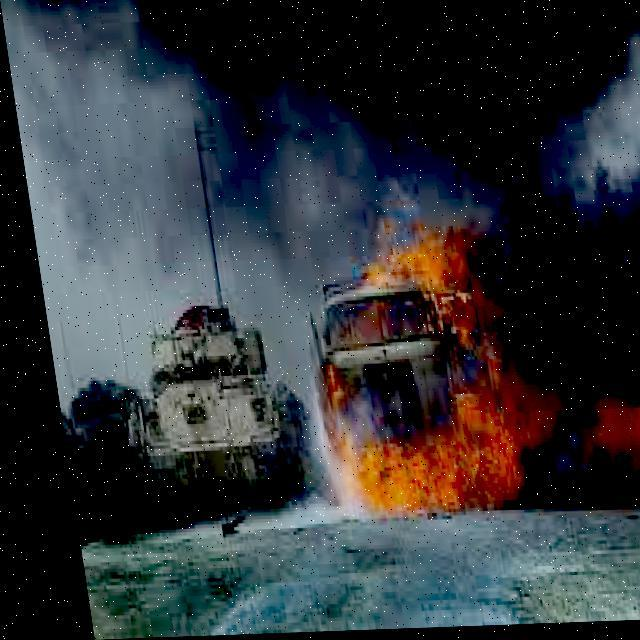Fire: (278, 231, 535, 525), (566, 387, 639, 501)
